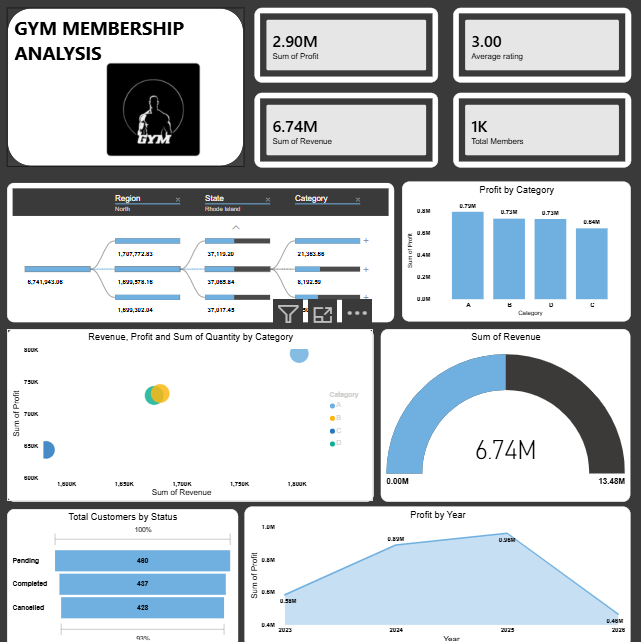

This screenshot's page, from the dashboard's own definition file:
{"tool":"powerbi","page":{"name":"Page 1","canvas":[1300,1300],"ordinal":0},"visuals":[{"type":"decompositionTreeVisual","fields":{"Analyze":["Sum(08_Gym_Memberships.Revenue)"],"ExplainBy":["08_Gym_Memberships.Region","08_Gym_Memberships.State","08_Gym_Memberships.Category","08_Gym_Memberships.City"]},"box":[20.5,366.7,774.4,279.5],"z":0},{"type":"scatterChart","title":" Revenue, Profit and Sum of Quantity by Category","fields":{"X":["Sum(08_Gym_Memberships.Revenue)"],"Y":["Sum(08_Gym_Memberships.Profit)"],"Size":["Sum(08_Gym_Memberships.Quantity)"],"Series":["08_Gym_Memberships.Category"]},"box":[20.1,658.8,733.4,345.9],"z":1000},{"type":"funnel","title":"Total Customers by Status","fields":{"Category":["08_Gym_Memberships.Status"],"Y":["08_Gym_Memberships.Count of record_id"]},"box":[20.1,1020.4,462.1,279.9],"z":2000},{"type":"areaChart","title":" Profit by Year","fields":{"Category":["08_Gym_Memberships.Transaction_Date.Variation.Date Hierarchy.Year","08_Gym_Memberships.Transaction_Date.Variation.Date Hierarchy.Quarter","08_Gym_Memberships.Transaction_Date.Variation.Date Hierarchy.Month","08_Gym_Memberships.Transaction_Date.Variation.Date Hierarchy.Day"],"Y":["Sum(08_Gym_Memberships.Profit)"]},"box":[495.1,1016.1,772.1,284.2],"z":3000},{"type":"gauge","fields":{"Y":["Sum(08_Gym_Memberships.Revenue)"]},"box":[767.8,658.8,499.4,345.9],"z":4000},{"type":"columnChart","title":"Profit by Category","fields":{"Y":["Sum(08_Gym_Memberships.Profit)"],"Category":["08_Gym_Memberships.Category"]},"box":[809.5,364.5,457.8,279.9],"z":5000},{"type":"cardVisual","fields":{"Data":["Sum(08_Gym_Memberships.Revenue)"]},"box":[513.8,188,367.4,149.3],"z":6000},{"type":"cardVisual","fields":{"Data":["Sum(08_Gym_Memberships.Profit)"]},"box":[513.8,18.7,367.4,149.3],"z":7000},{"type":"cardVisual","fields":{"Data":["08_Gym_Memberships.Total Members"]},"box":[911.3,188,355.9,149.3],"z":8000},{"type":"cardVisual","fields":{"Data":["08_Gym_Memberships.Average rating"]},"box":[911.3,18.7,355.9,149.3],"z":9000},{"type":"shape","box":[20.5,17.9,474.4,317.9],"z":9001},{"type":"image","box":[146.2,128.2,335.9,187.2],"z":9002}]}

Visuals, with their boxes in screenshot pixels (x1, y1, x2, y2), scaled from the page's 1300x1300 canvas onto the 641x642 screenshot:
decompositionTreeVisual - Sum(08_Gym_Memberships.Revenue) x 08_Gym_Memberships.Region: crop(10, 181, 392, 319)
" Revenue, Profit and Sum of Quantity by Category" scatterChart: crop(10, 325, 372, 496)
"Total Customers by Status" funnel: crop(10, 504, 238, 641)
" Profit by Year" areaChart: crop(244, 502, 625, 641)
gauge - Sum(08_Gym_Memberships.Revenue): crop(379, 325, 625, 496)
"Profit by Category" columnChart: crop(399, 180, 625, 318)
cardVisual - Sum(08_Gym_Memberships.Revenue): crop(253, 93, 434, 167)
cardVisual - Sum(08_Gym_Memberships.Profit): crop(253, 9, 434, 83)
cardVisual - 08_Gym_Memberships.Total Members: crop(449, 93, 625, 167)
cardVisual - 08_Gym_Memberships.Average rating: crop(449, 9, 625, 83)
shape: crop(10, 9, 244, 166)
image: crop(72, 63, 238, 156)
